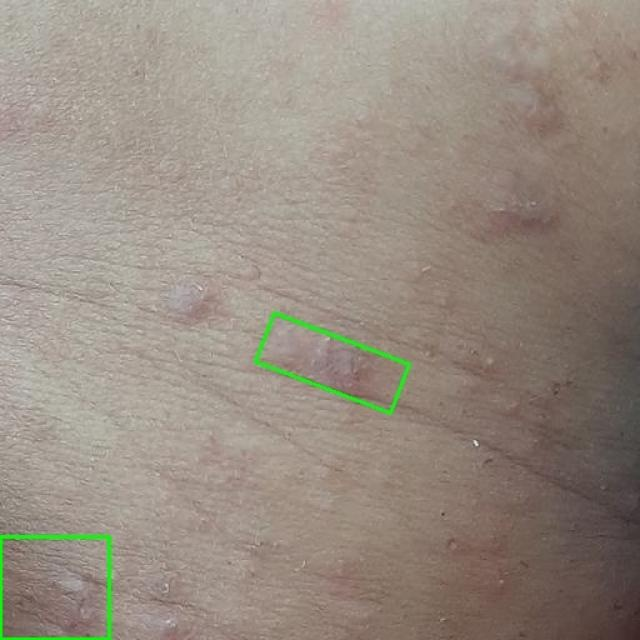Scabies: (256, 313, 410, 413), (0, 536, 110, 639)
